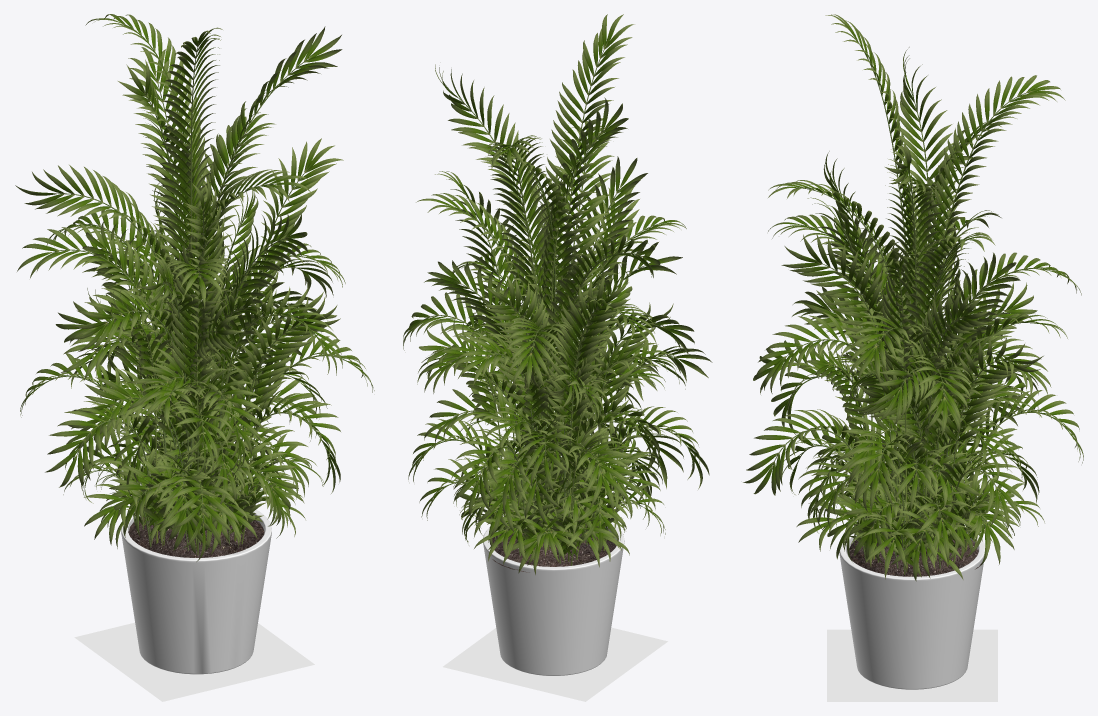
File: potted_plant___poly_foliage_game_ready.glb
3 renders of one model, left to right at view 1: azimuth 30°, elevation 25°; view 2: azimuth 150°, elevation 25°; view 3: azimuth 270°, elevation 25°, orthographic. The views are drawn at different scales.
Visible parts, largest first — view 1: Object_9, Object_13, Object_8, Object_4, Object_6; view 2: Object_9, Object_13, Object_8, Object_4, Object_6; view 3: Object_9, Object_13, Object_8, Object_4, Object_6.
Part boxes in pixels (left/top/right/bottom): Object_9: left=15, top=14, right=374, bottom=561; Object_13: left=121, top=510, right=271, bottom=674; Object_8: left=42, top=24, right=348, bottom=555; Object_4: left=74, top=622, right=314, bottom=701; Object_6: left=128, top=516, right=264, bottom=557; Object_9: left=403, top=14, right=712, bottom=574; Object_13: left=483, top=522, right=624, bottom=675; Object_8: left=422, top=47, right=690, bottom=565; Object_4: left=443, top=627, right=667, bottom=701; Object_6: left=490, top=525, right=616, bottom=572; Object_9: left=743, top=14, right=1083, bottom=581; Object_13: left=839, top=526, right=985, bottom=689; Object_8: left=772, top=42, right=1067, bottom=574; Object_4: left=827, top=629, right=997, bottom=701; Object_6: left=849, top=536, right=981, bottom=576.
Bounding box in the file's own units: 1.08 × 2.16 × 1.05.
5 materials, 3 textured.
